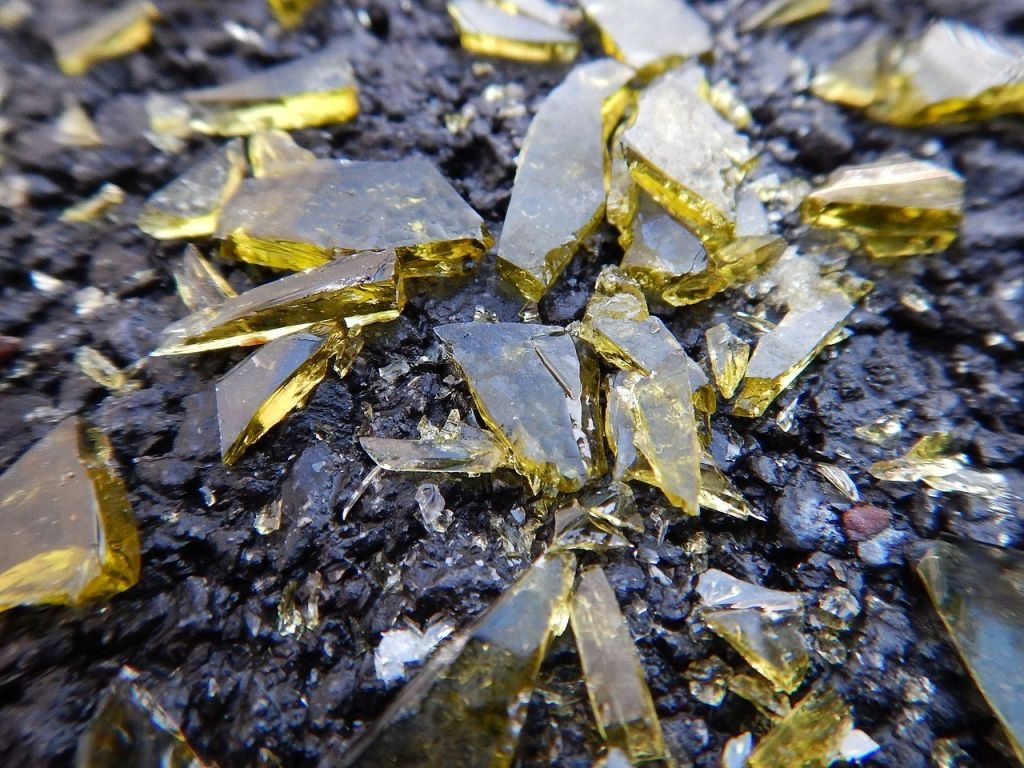glass: (353, 520, 582, 765), (229, 120, 492, 280), (491, 58, 646, 309), (578, 265, 723, 522), (427, 305, 616, 495), (1, 410, 150, 628), (172, 318, 355, 491), (149, 238, 420, 354), (566, 558, 694, 768), (625, 47, 765, 238), (814, 14, 1024, 141), (605, 174, 790, 310), (740, 229, 869, 418), (801, 139, 972, 268), (179, 49, 387, 146), (685, 559, 835, 689), (361, 406, 528, 491), (138, 134, 258, 242), (744, 666, 854, 768), (581, 1, 738, 70), (23, 1, 157, 80), (448, 1, 581, 64), (868, 421, 976, 496), (700, 318, 758, 397)
